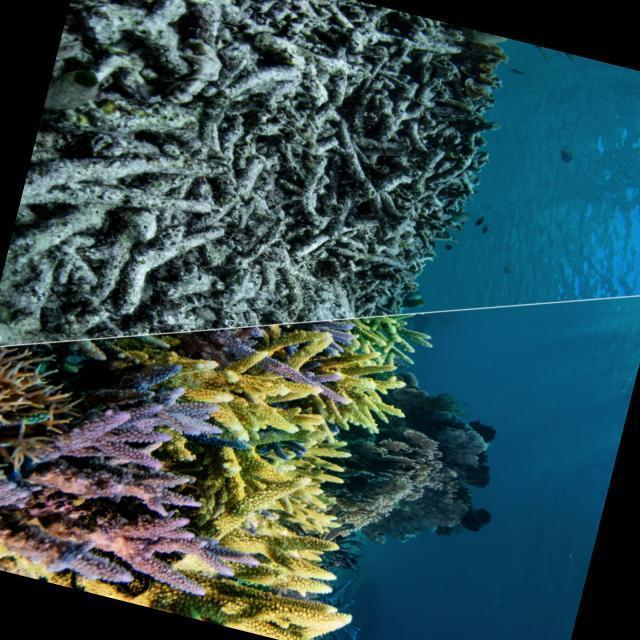Dead Coral: (16, 0, 525, 326)
